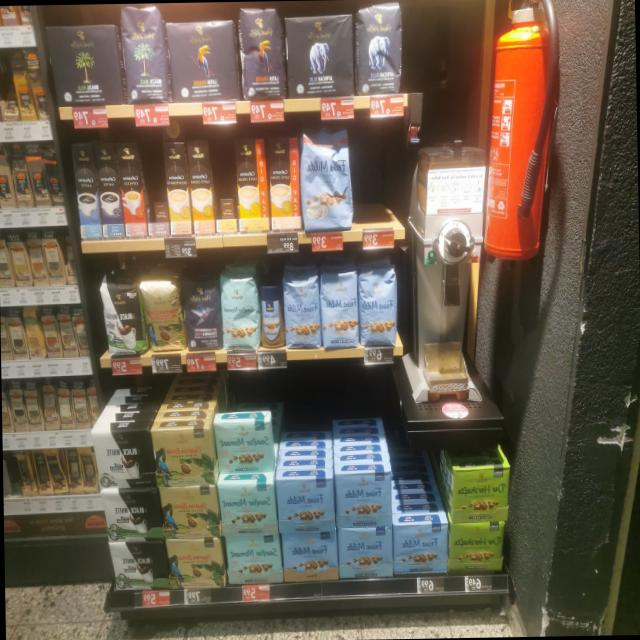AB Bohne: (354, 0, 404, 95)
AB Gemahlen: (286, 11, 354, 100)
BM Bohne: (120, 3, 167, 104)
BM Gemahlen: (44, 21, 122, 107)
BW Bohne: (98, 281, 141, 355)
BW Gemahlen: (88, 427, 152, 489), (100, 487, 162, 541), (108, 540, 166, 591)
C Fino Bohne: (182, 278, 221, 352)
Colombia BB Bohne: (139, 276, 183, 354)
Colombia BB Gemahlen: (150, 426, 213, 488), (158, 483, 216, 538), (164, 536, 224, 589)
Empty Shelf: (352, 124, 406, 228), (139, 141, 169, 220), (209, 136, 238, 217)
FM 36 Pads: (299, 127, 352, 230)
FM Bohne: (358, 265, 398, 347), (320, 266, 359, 350), (283, 274, 320, 349)
FM Gemahlen: (334, 470, 392, 528), (275, 476, 334, 530), (392, 521, 449, 574), (280, 529, 336, 582), (338, 526, 393, 578)
FM Instant: (258, 278, 282, 349)
Herzhatfe Mundig: (450, 466, 510, 523), (447, 521, 506, 573)
LG Bohne: (238, 1, 284, 101)
LG Gemahlen: (164, 18, 237, 103)
SM Bohne: (220, 273, 258, 351)
SM Gemahlen: (213, 418, 274, 473), (218, 481, 274, 536), (226, 530, 280, 585)
Simo CCMild: (234, 137, 269, 230)
Simo CCMild bigpack: (186, 138, 215, 234)
Simo CCVollmundig: (269, 136, 299, 228)
Simo Decaff: (161, 142, 192, 234)
Simo Es Brazil: (115, 141, 147, 236)
Simo Es Kraft: (93, 141, 125, 238)
Simo Es Vanilla: (71, 143, 102, 238)
